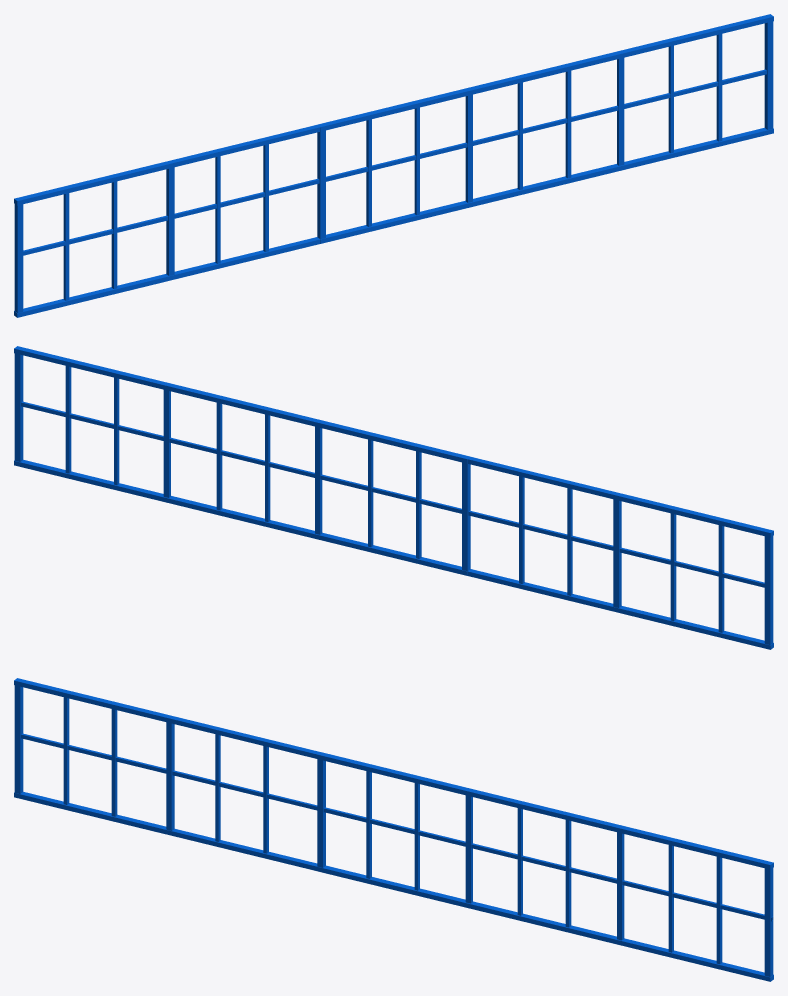
File: Warehouse_04_Window_02B.fbx
3 views of the same model, one above another, from view 1: azimuth 30°, elevation 25°; view 2: azimuth 150°, elevation 25°; view 3: azimuth 330°, elevation 25° (orthographic).
Parts seen in each view (by area): view 1: Warehouse_04_Window_02B; view 2: Warehouse_04_Window_02B; view 3: Warehouse_04_Window_02B.
Part boxes in pixels (bbox=[...]): Warehouse_04_Window_02B: bbox=[14, 14, 773, 317]; Warehouse_04_Window_02B: bbox=[14, 346, 773, 649]; Warehouse_04_Window_02B: bbox=[14, 678, 773, 981].
Size of the model in its own units: 2022 by 298 by 16.2.
